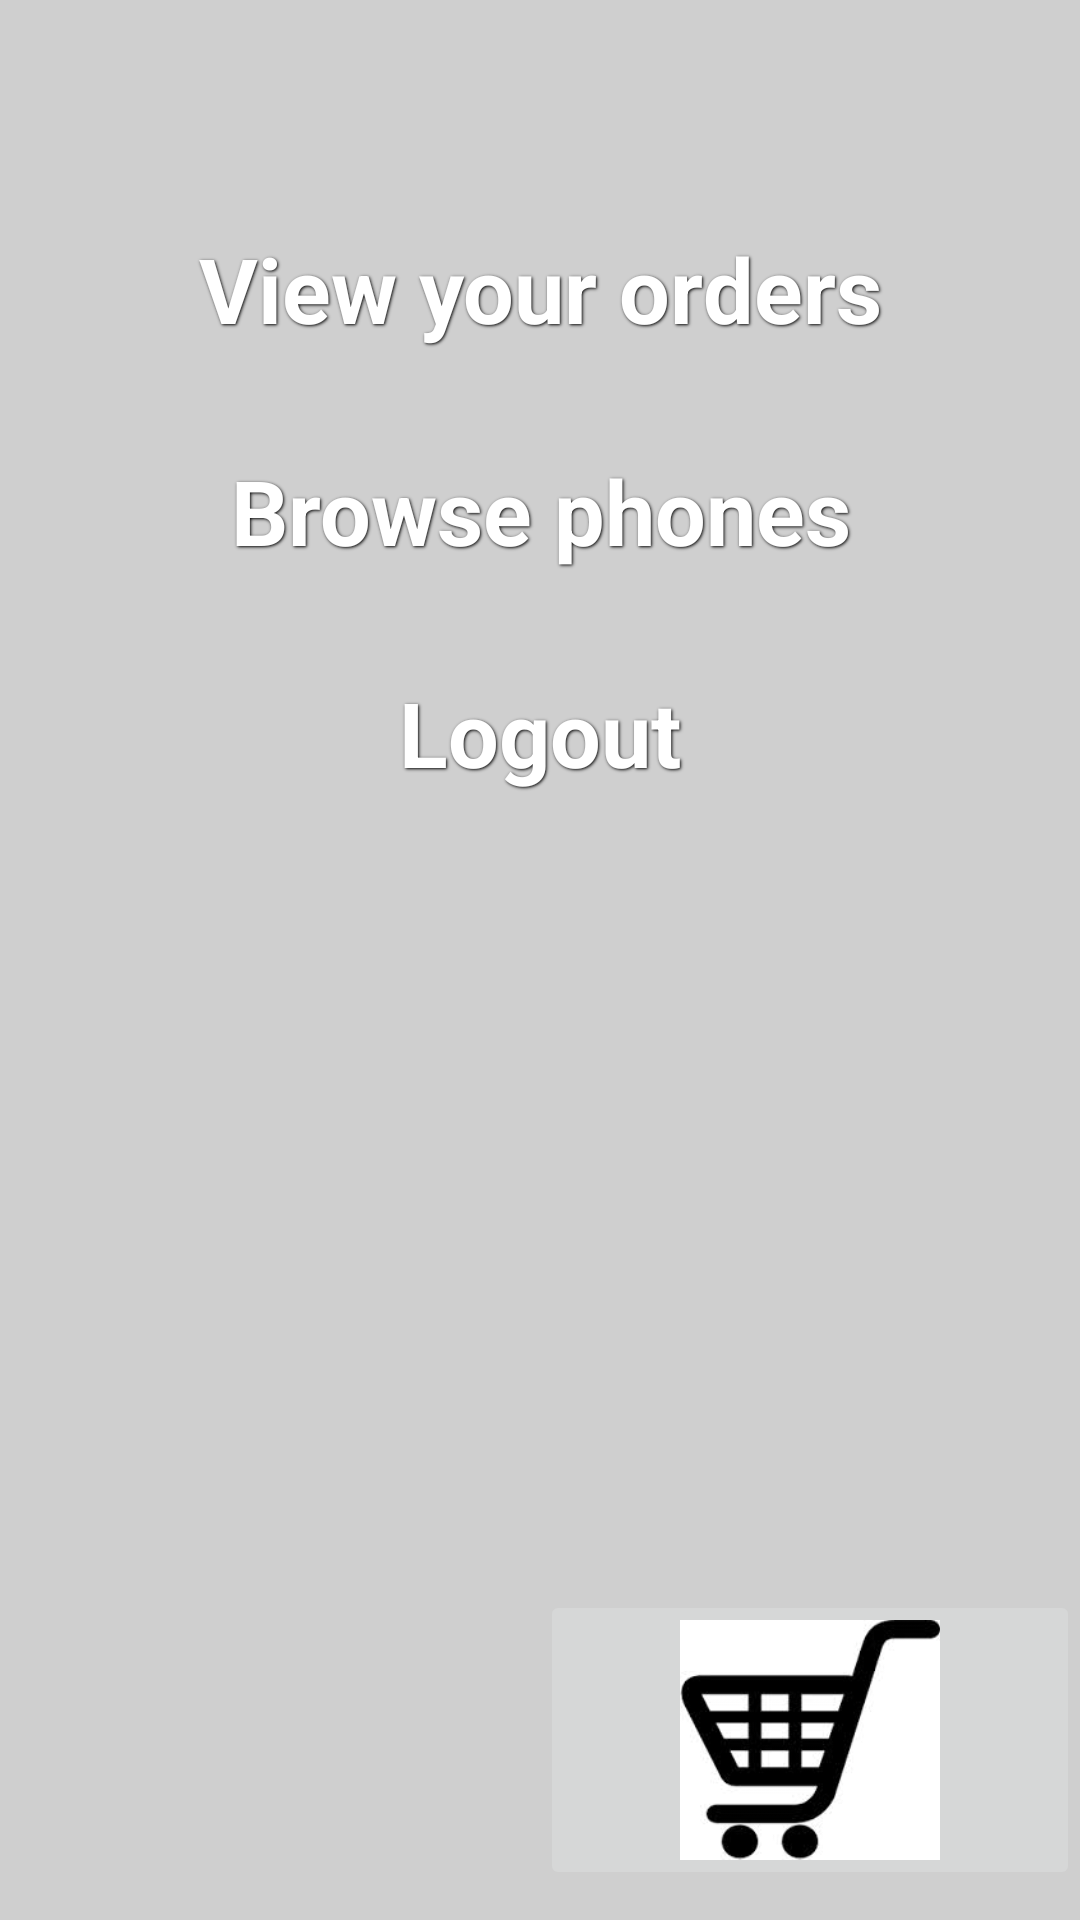

Screen size 1080px×1920px. Icon name, then its box in pixels as (x1, y1, x2, y2):
cart: (680, 1620, 940, 1860)
